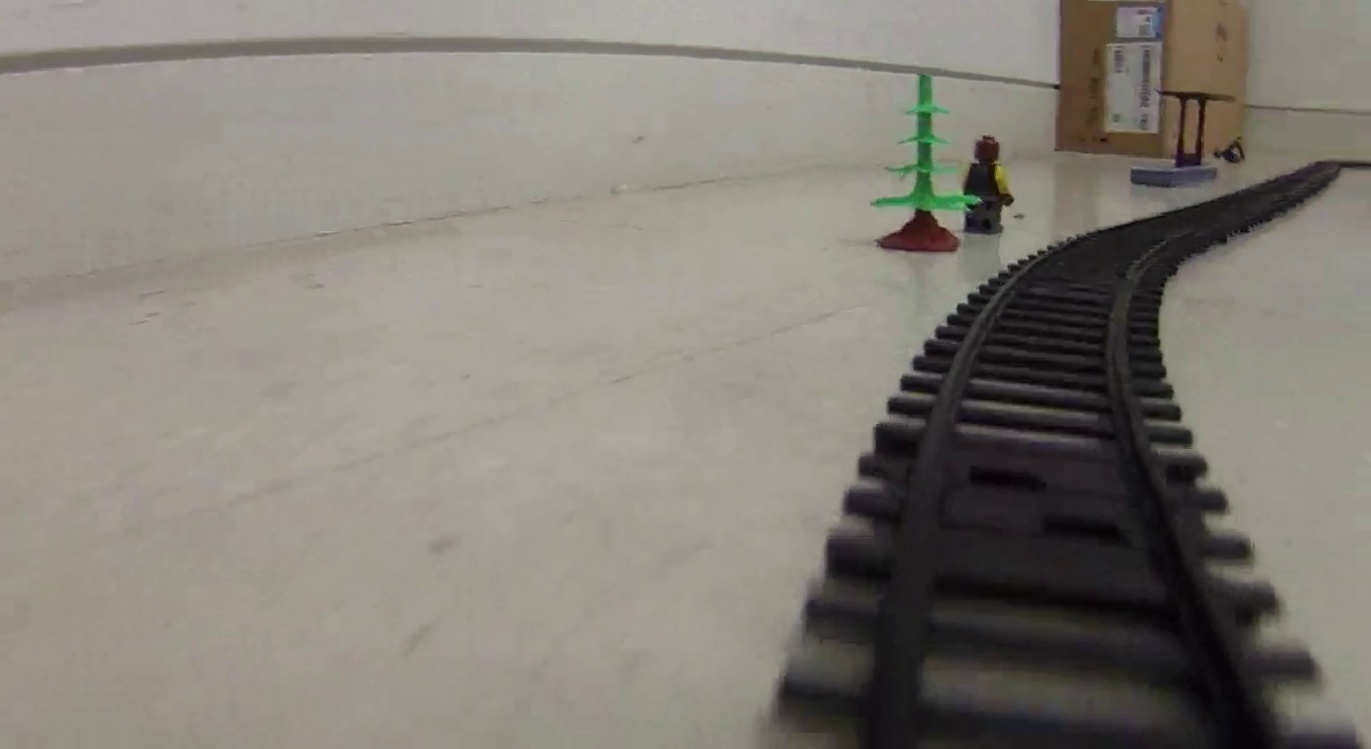people: (964, 137, 1015, 238)
tree: (872, 76, 968, 254)
